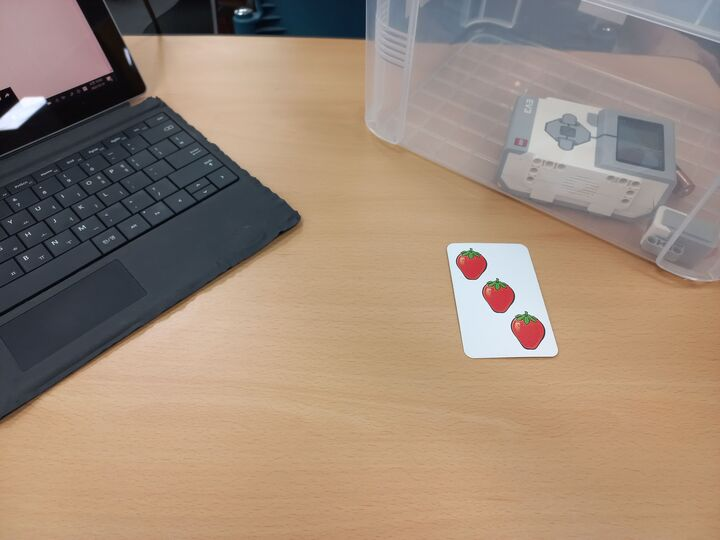strawberry3: (444, 241, 562, 361)
